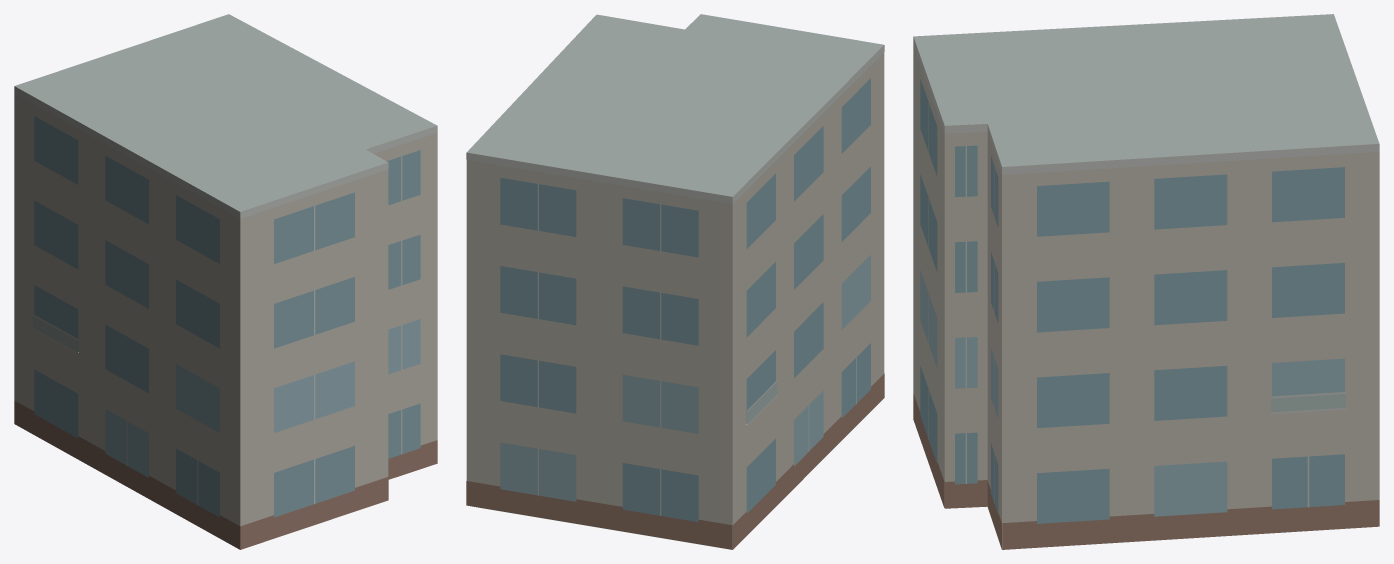
Rendered from survey-upis-32769396.glb.
3 views of the same model, side by side, from view 1: azimuth 30°, elevation 25°; view 2: azimuth 150°, elevation 25°; view 3: azimuth 270°, elevation 25° (orthographic). The views are drawn at different scales.
Parts seen in each view (by area): view 1: survey-upis-32769396.tmp; view 2: survey-upis-32769396.tmp; view 3: survey-upis-32769396.tmp.
Part boxes in pixels (bbox=[...]): survey-upis-32769396.tmp: bbox=[14, 14, 437, 549]; survey-upis-32769396.tmp: bbox=[466, 14, 884, 549]; survey-upis-32769396.tmp: bbox=[913, 14, 1379, 549].
Bounding box in the file's own units: 10.13 × 11.8 × 13.03.
